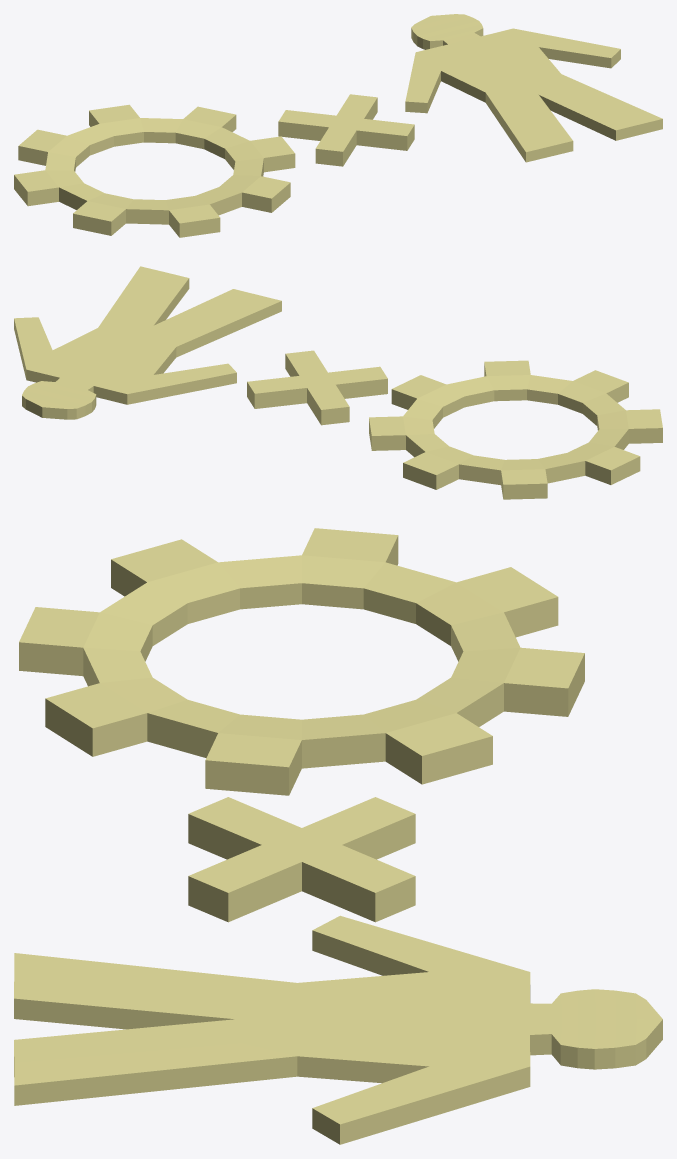
Rendered from MachineXMen.fbx.
3 renders of one model, top to bottom at view 1: azimuth 30°, elevation 25°; view 2: azimuth 150°, elevation 25°; view 3: azimuth 270°, elevation 25°, orthographic. The views are drawn at different scales.
Visible parts, largest first — view 1: Cube.001; view 2: Cube.001; view 3: Cube.001.
Boxes of the visible parts, bbox=[...] form: Cube.001: bbox=[14, 14, 662, 237]; Cube.001: bbox=[14, 266, 662, 499]; Cube.001: bbox=[14, 528, 662, 1144].
Size of the model in its own units: 324 by 10.63 by 153.
